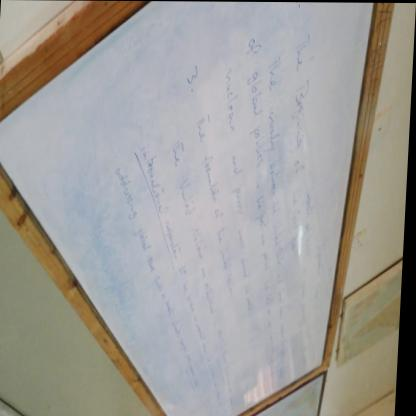Handwritten text: (106, 155, 195, 366), (134, 133, 213, 349), (164, 128, 221, 322), (217, 61, 260, 316), (241, 63, 275, 301), (283, 33, 309, 278), (265, 48, 288, 297), (191, 95, 227, 227)
